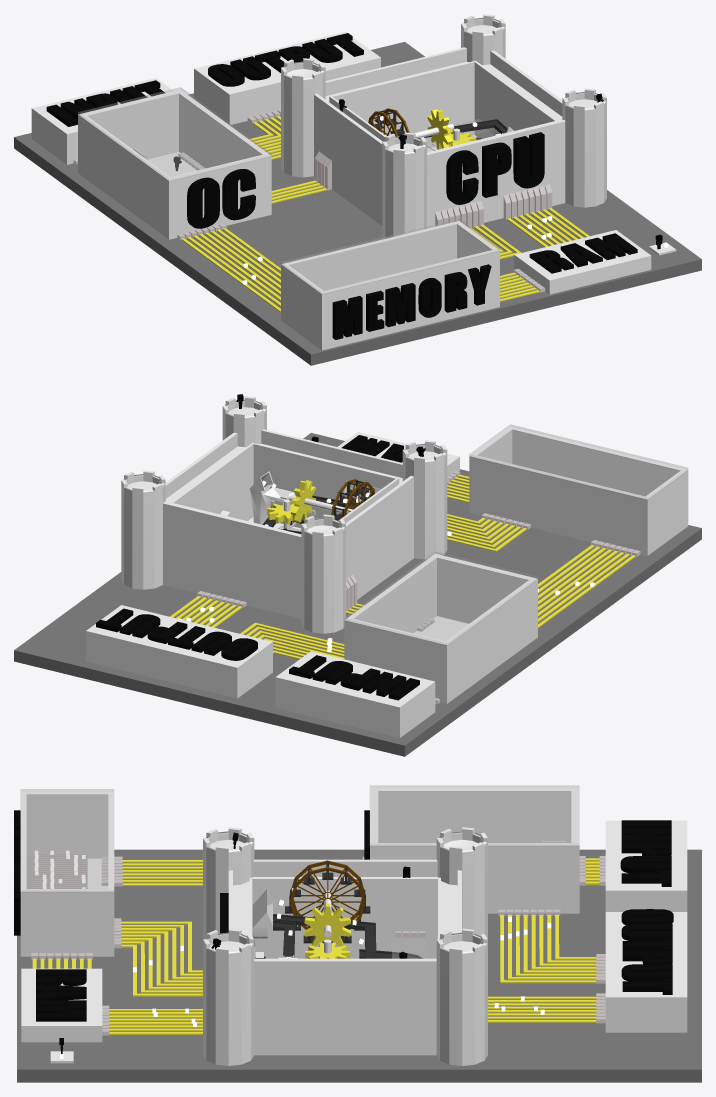
3 renders of one model, top to bottom at view 1: azimuth 30°, elevation 25°; view 2: azimuth 150°, elevation 25°; view 3: azimuth 270°, elevation 25°, orthographic. The views are drawn at different scales.
Parts seen in each view (by area): view 1: buildings, group4_pasted__pCube4, names, pCube29, pasted__pCube29, wires, imputs, pasted__connectors1, pGear2, pasted__pasted__group14_pasted__pasted__group7_pasted__paste; view 2: buildings, group4_pasted__pCube4, pCube29, wires, pasted__pCube29, names, operators, pasted__connectors1, pGear2; view 3: buildings, group4_pasted__pCube4, wires, pCube29, names, pasted__pCube29, pasted__connectors1, memory, group32, roads, pGear2, operators (+4 smaller).
Part boxes in pixels (<box>): buildings: <box>31,14,651,350</box>; group4_pasted__pCube4: <box>14,42,701,365</box>; names: <box>46,33,637,339</box>; pCube29: <box>78,87,271,180</box>; pasted__pCube29: <box>281,219,499,294</box>; wires: <box>181,116,589,312</box>; imputs: <box>435,184,552,227</box>; pasted__connectors1: <box>73,109,545,301</box>; pGear2: <box>427,109,452,149</box>; pasted__pasted__group14_pasted__pasted__group7_pasted__paste: <box>314,151,331,190</box>; buildings: <box>86,396,688,737</box>; group4_pasted__pCube4: <box>14,433,701,756</box>; pCube29: <box>344,551,537,645</box>; wires: <box>170,474,635,659</box>; pasted__pCube29: <box>469,424,687,499</box>; names: <box>96,435,419,700</box>; operators: <box>249,471,381,524</box>; pasted__connectors1: <box>197,471,640,704</box>; pGear2: <box>290,480,315,521</box>; buildings: <box>20,788,687,1065</box>; group4_pasted__pCube4: <box>17,849,701,1082</box>; wires: <box>32,860,596,1034</box>; pCube29: <box>370,785,579,845</box>; names: <box>14,810,673,1021</box>; pasted__pCube29: <box>20,789,113,891</box>; pasted__connectors1: <box>31,856,605,1035</box>; memory: <box>26,853,87,888</box>; group32: <box>289,860,365,929</box>; roads: <box>255,914,422,958</box>; pGear2: <box>304,903,350,946</box>; operators: <box>252,889,297,958</box>.
Bounding box in the file's own units: 136 × 38.78 × 180.
